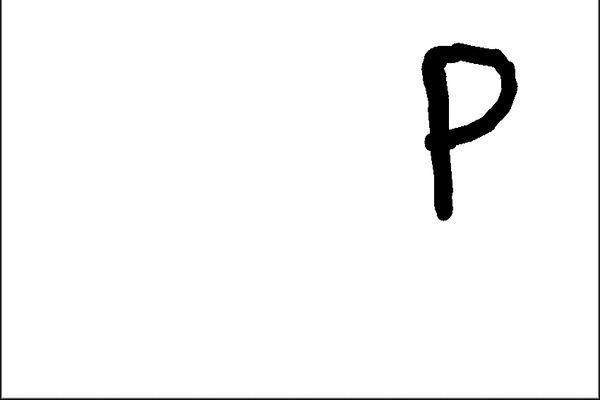P: (405, 34, 533, 230)
